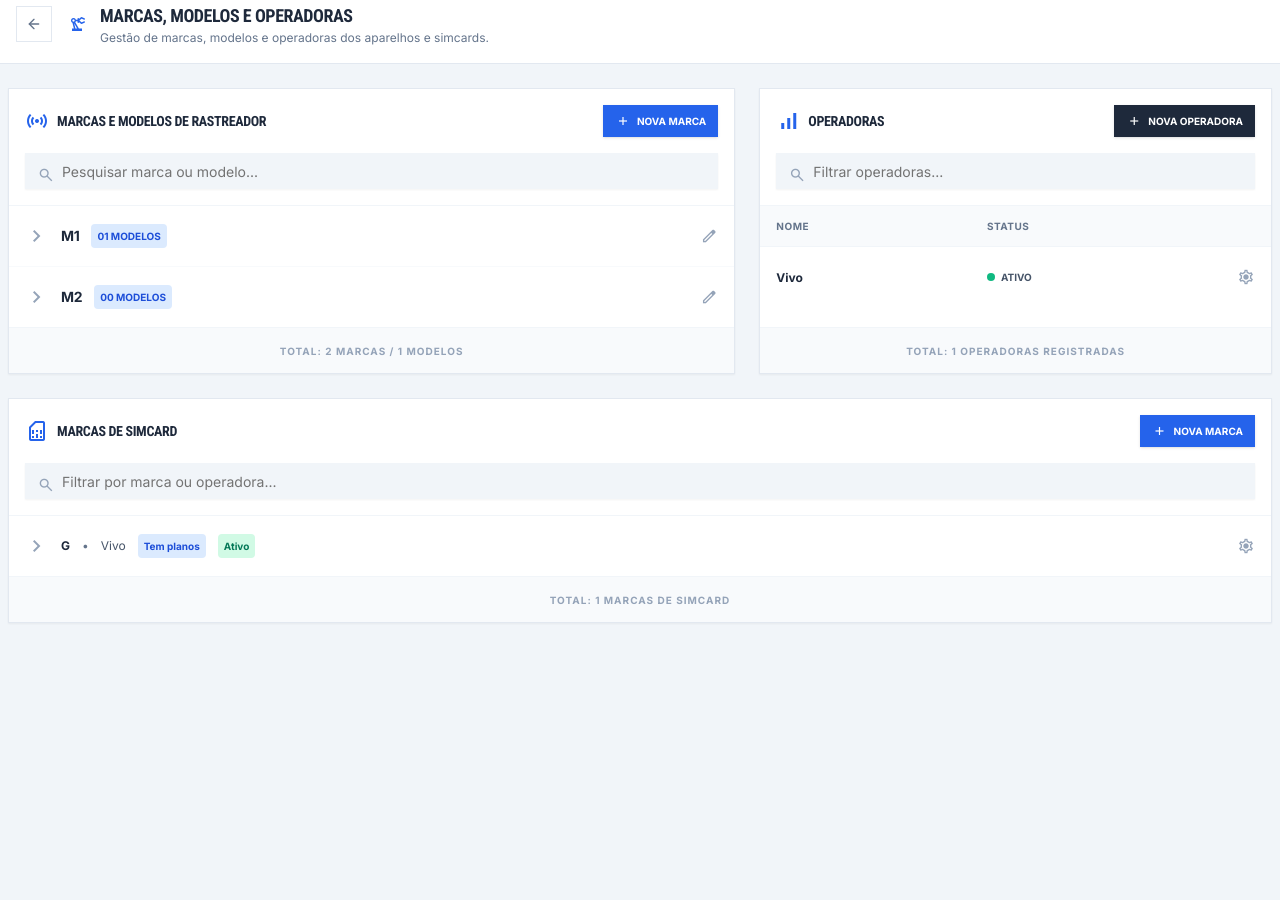
Test: EquipamentosConfigPage (integração) › marca M1 (com modelos) não oferece Excluir; M2 oferece
Check: the text "M1" is shown, box x1=61 y1=227 x2=79 y2=244
Click the button without text in the row of "01": (709, 236) x1=700 y1=222 x2=718 y2=250
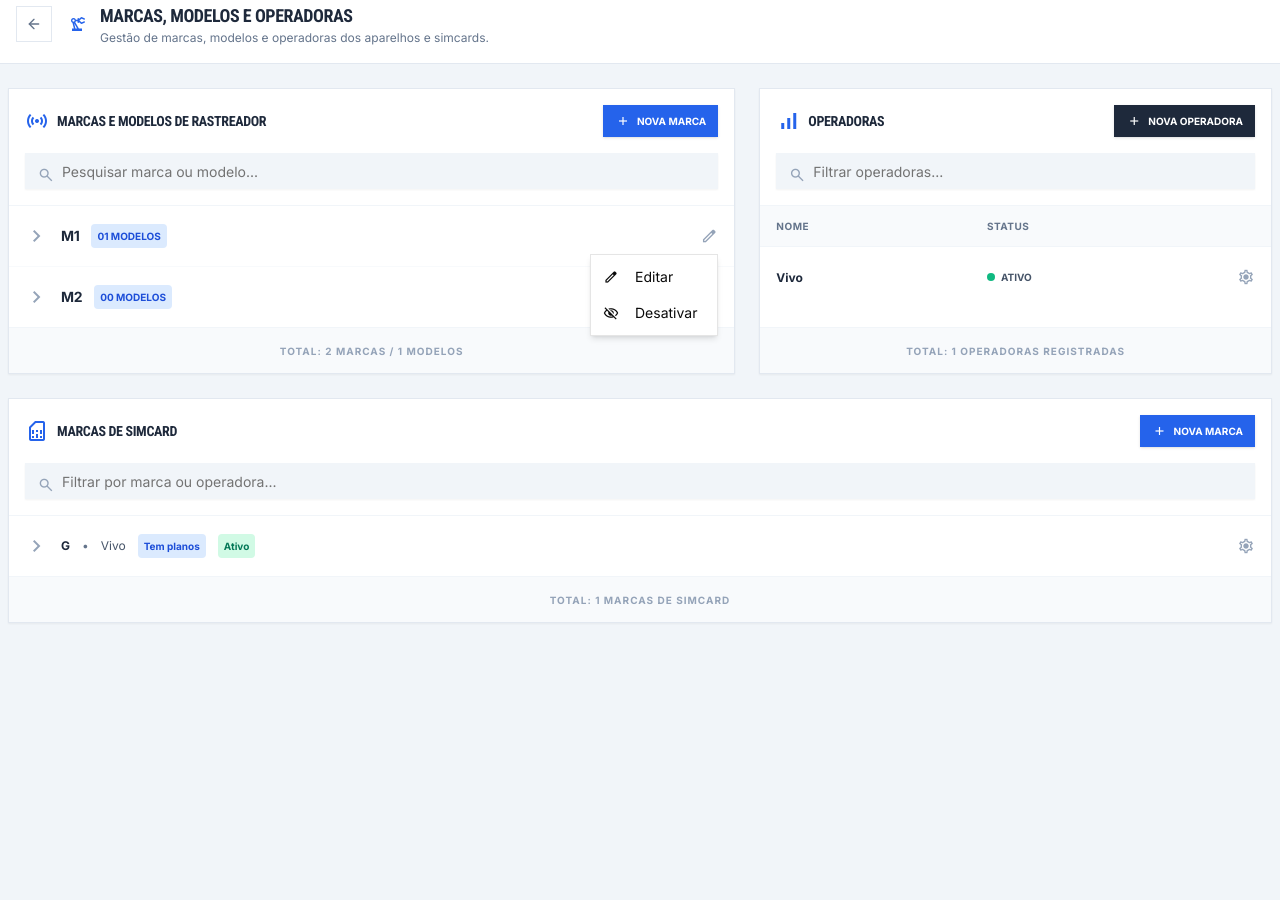
Check: the menu item "excluir" is not shown
Press Escape
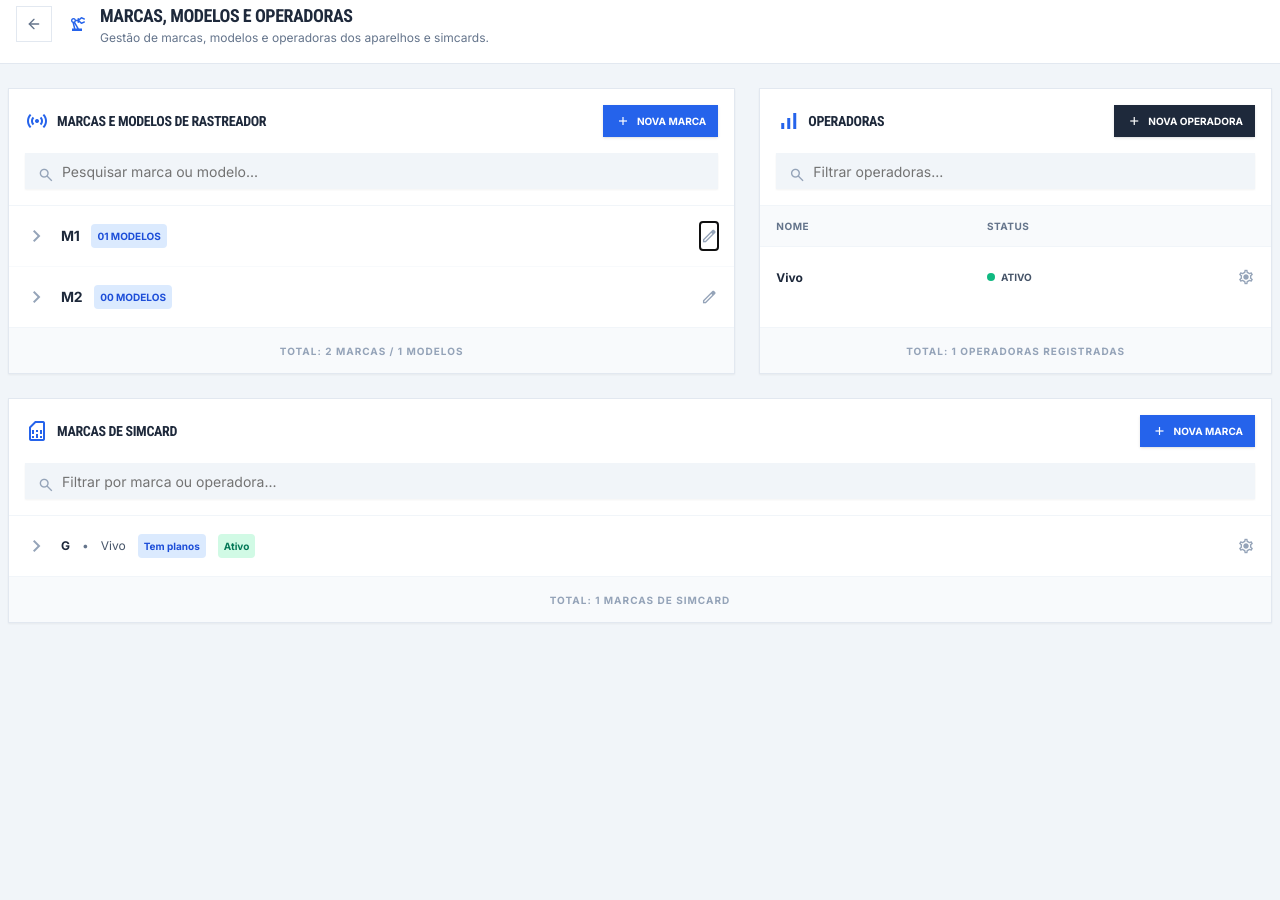
Click the button without text in the row of "00": (709, 297) x1=700 y1=283 x2=718 y2=311
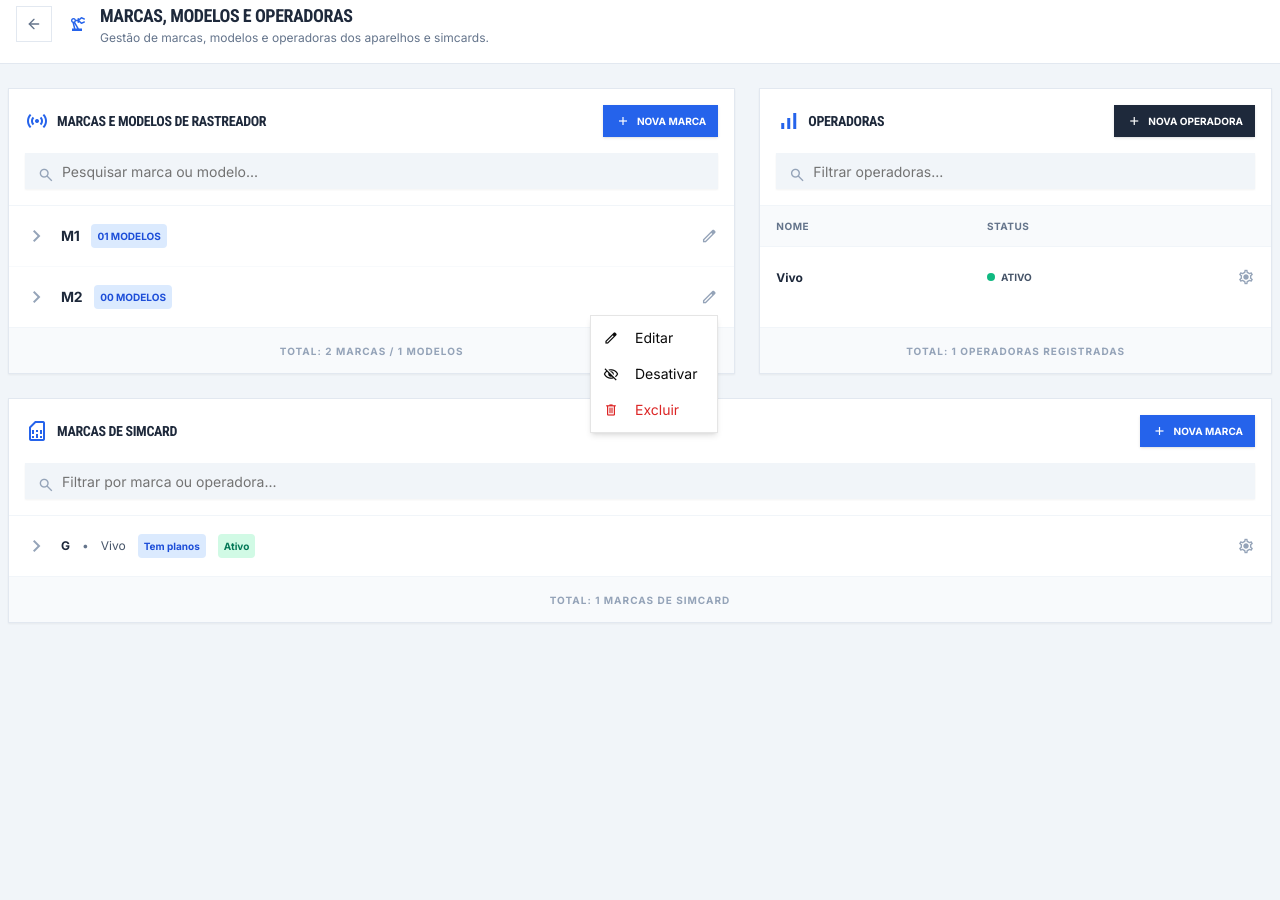
Check: the menu item "Excluir" is shown, box x1=603 y1=400 x2=679 y2=420
